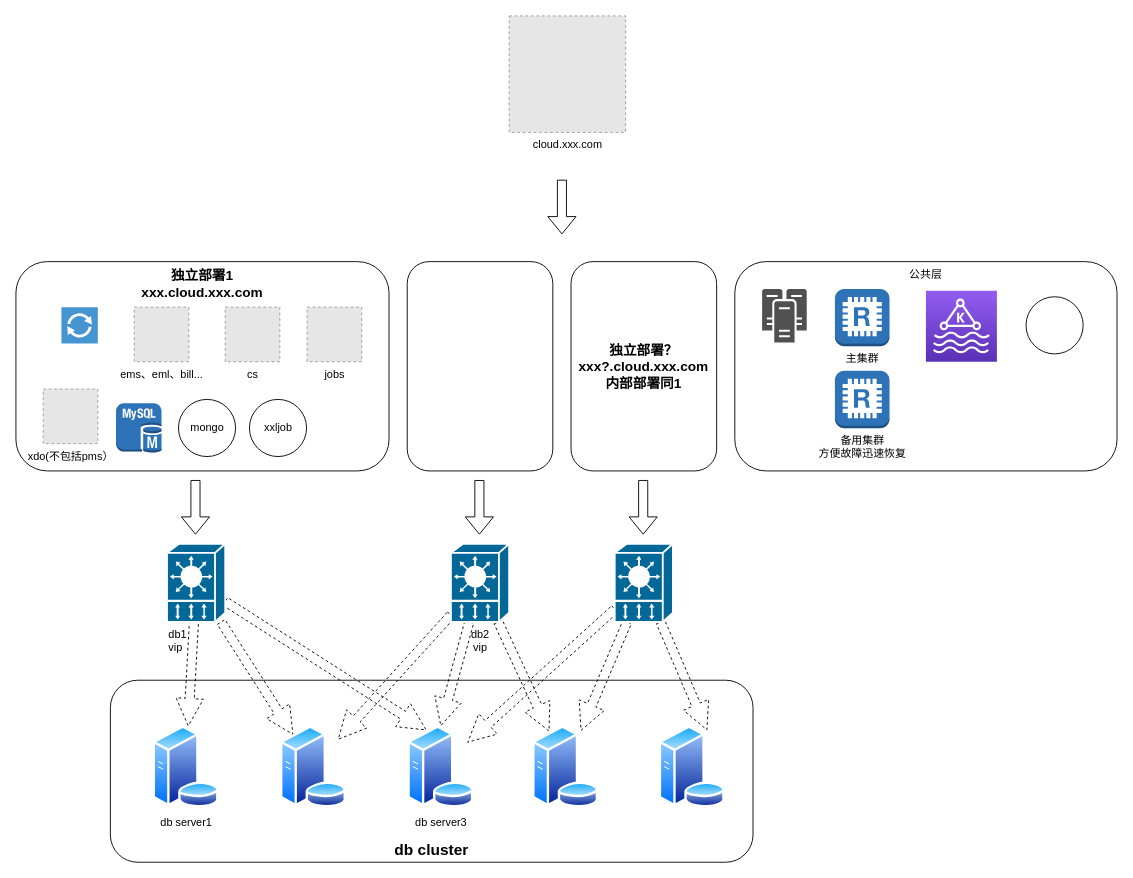
The diagram is 1133 pixels wide and 878 high, and some of its shapes have lost their labels. Grey dashed boxes stand in for pictures. Each missing label, with the centre of its shape:
db server2: (313,766)
db server4: (565,766)
db server5: (691,766)
db3 vip: (643,582)
kafka集群 需要想好故障策略: (961,326)
pms: (784,315)
proxy: (79,325)
xdoMask: (1054,325)
独立部署2 xxx2.cloud.xxx.com 内部部署同1: (479,366)
